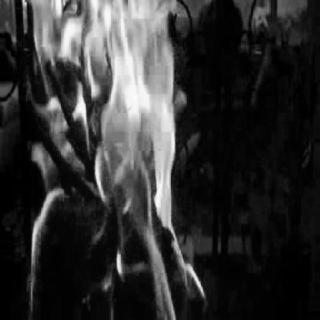Fire: (8, 4, 208, 318)
